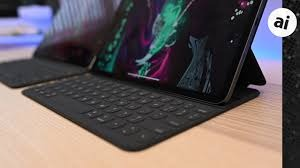keyboard: (32, 79, 216, 162)
